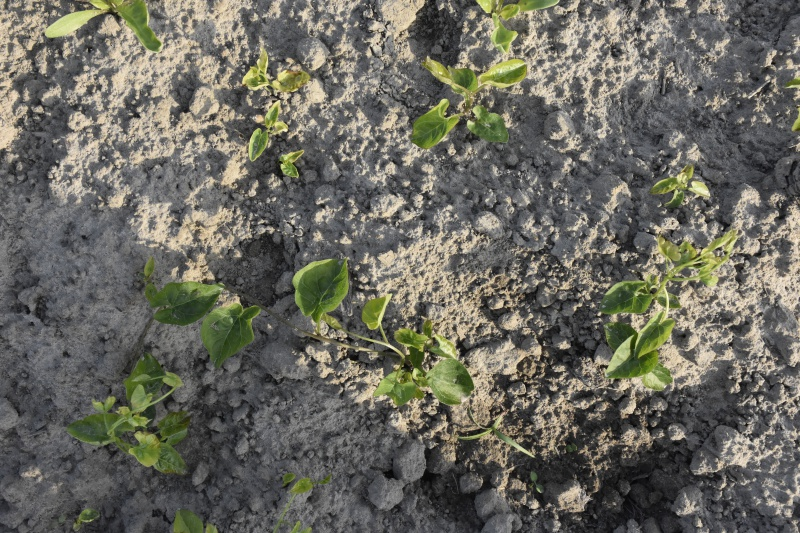field bindweed: (76, 257, 473, 470), (596, 231, 743, 394), (416, 55, 528, 152), (237, 52, 311, 99), (247, 97, 287, 165), (654, 166, 713, 210), (273, 145, 312, 184)
sugar beet: (41, 1, 173, 61), (469, 1, 558, 56)
